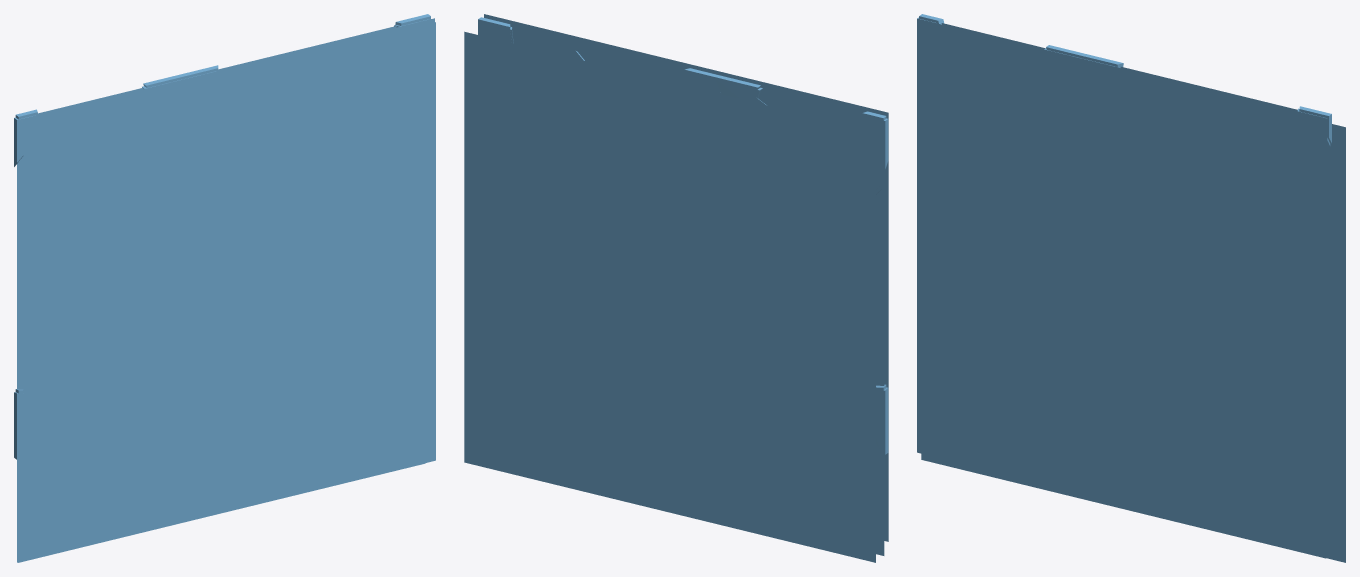
Rendered from Windows.fbx.
The picture shows the model from 3 angles, left to right: view 1: azimuth 30°, elevation 25°; view 2: azimuth 150°, elevation 25°; view 3: azimuth 330°, elevation 25°; orthographic projection.
Visible parts, largest first — view 1: NormalWindow, BrokenWindow_6, BrokenWindow_7, BrokenWindow_3, BrokenWindow_1; view 2: NormalWindow, BrokenWindow_3, BrokenWindow_1, BrokenWindow_8; view 3: NormalWindow, BrokenWindow_3, BrokenWindow_7, BrokenWindow_6.
Boxes of the visible parts, <box> form: NormalWindow: <box>17,18,435,562</box>; BrokenWindow_6: <box>14,21,422,524</box>; BrokenWindow_7: <box>18,73,356,557</box>; BrokenWindow_3: <box>15,14,430,393</box>; BrokenWindow_1: <box>14,23,412,562</box>; NormalWindow: <box>464,14,888,562</box>; BrokenWindow_3: <box>478,17,886,545</box>; BrokenWindow_1: <box>511,29,888,555</box>; BrokenWindow_8: <box>510,27,887,485</box>; NormalWindow: <box>917,18,1345,562</box>; BrokenWindow_3: <box>919,14,1331,537</box>; BrokenWindow_7: <box>941,63,1258,541</box>; BrokenWindow_6: <box>1044,48,1329,551</box>.
Bounding box in the file's own units: 814 × 827 × 31.87.
